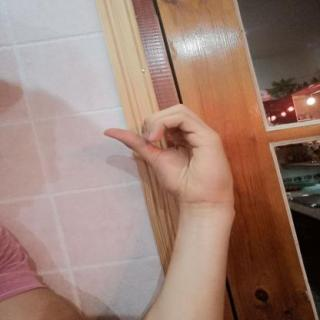WAW: (94, 96, 243, 214)
